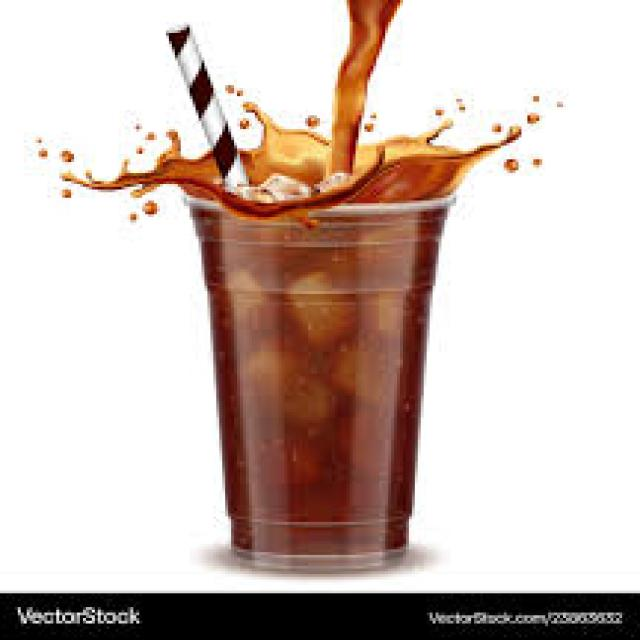bottle: (191, 198, 452, 569)
